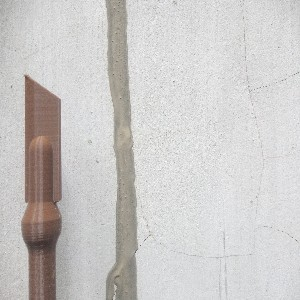cutter: (20, 73, 63, 300)
